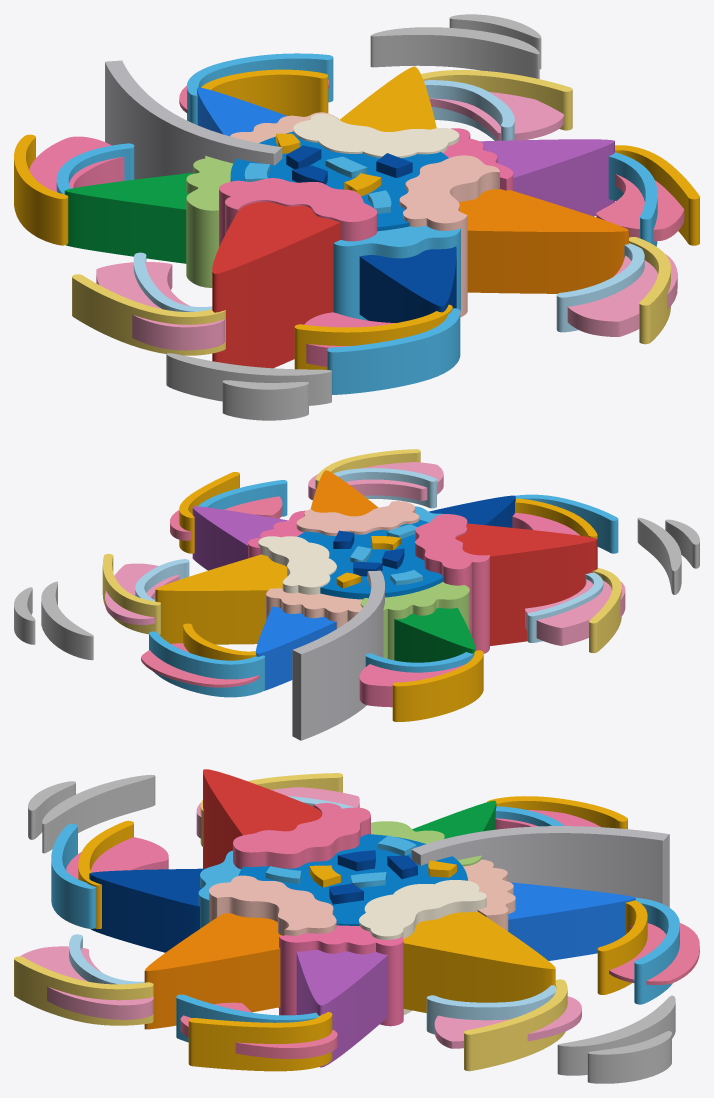
The model's file is emoji_u1fa85.glb.
3 renders of one model, top to bottom at view 1: azimuth 30°, elevation 25°; view 2: azimuth 150°, elevation 25°; view 3: azimuth 270°, elevation 25°, orthographic. The views are drawn at different scales.
Visible parts, largest first — view 1: emoji_u1fa85; view 2: emoji_u1fa85; view 3: emoji_u1fa85.
Boxes of the visible parts, x1=… form: emoji_u1fa85: x1=14, y1=14, x2=699, y2=420; emoji_u1fa85: x1=14, y1=449, x2=699, y2=740; emoji_u1fa85: x1=14, y1=769, x2=699, y2=1083.
Size of the model in its own units: 0.0329 by 0.0062 by 0.0341.
